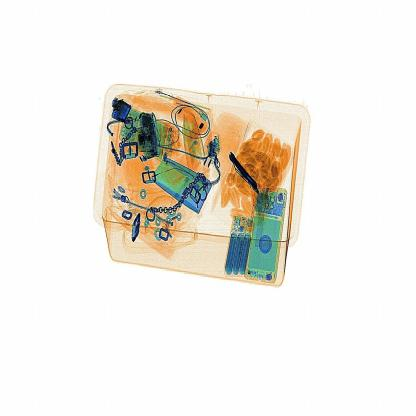knife: (227, 148, 268, 198)
